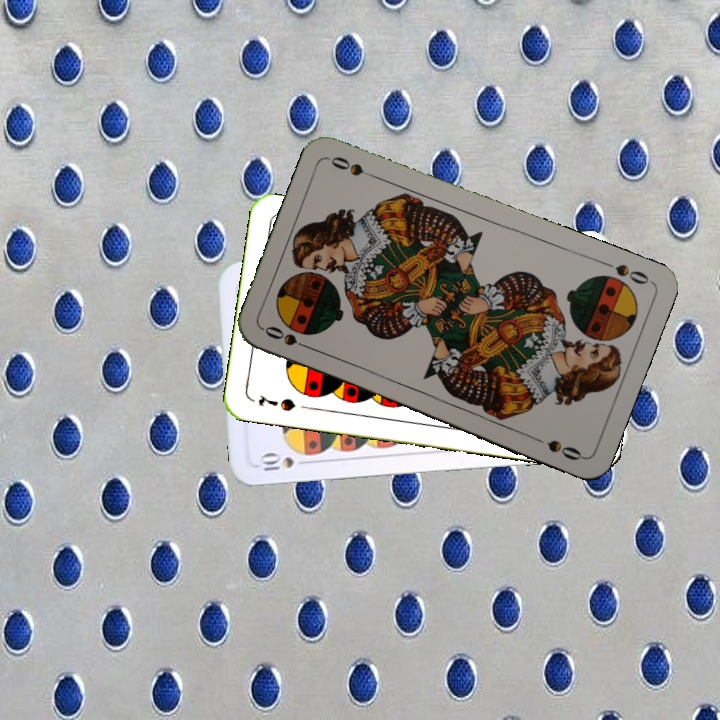S10: (256, 451, 313, 473)
S7: (254, 390, 298, 414)
SO: (261, 321, 317, 353), (597, 256, 652, 287)
